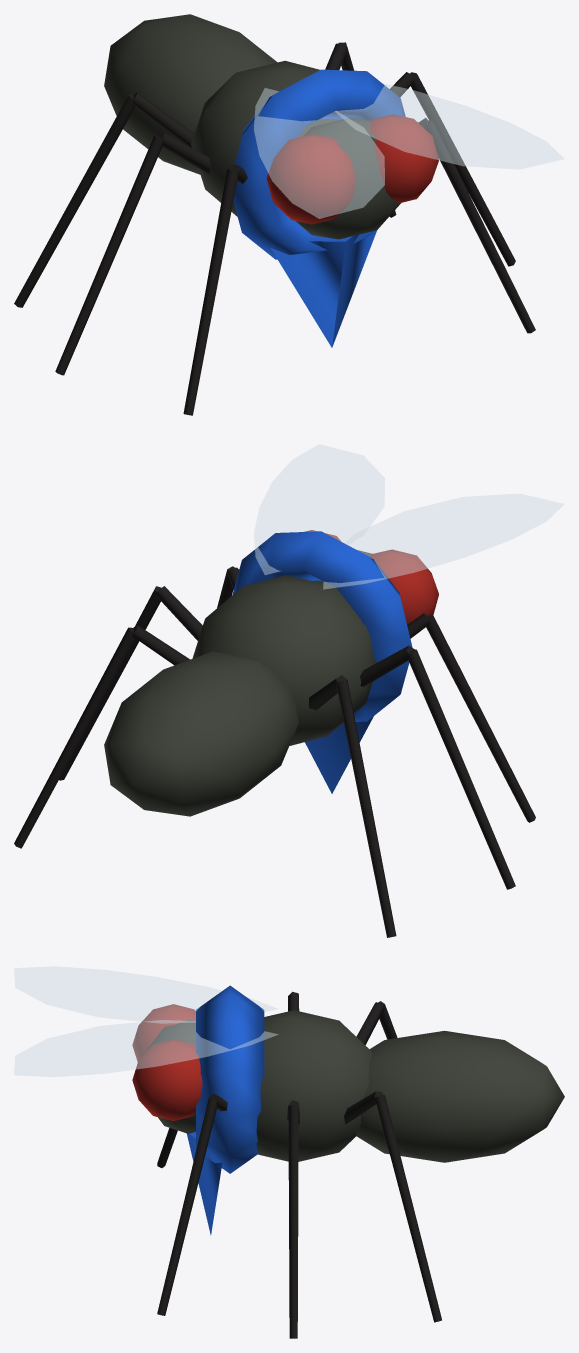
The model's file is fly_nuee.glb.
3 renders of one model, top to bottom at view 1: azimuth 30°, elevation 25°; view 2: azimuth 150°, elevation 25°; view 3: azimuth 270°, elevation 25°, orthographic. The views are drawn at different scales.
Visible parts, largest first — view 1: fly, gang_bandana; view 2: fly, gang_bandana; view 3: fly, gang_bandana.
Part boxes in pixels (x1,y1,x2,y2): fly: [14, 14, 564, 415]; gang_bandana: [233, 69, 405, 347]; fly: [14, 444, 563, 937]; gang_bandana: [232, 531, 412, 793]; fly: [14, 966, 564, 1338]; gang_bandana: [186, 985, 264, 1235].
Size of the model in its own units: 1.26 by 0.7267 by 1.46.
